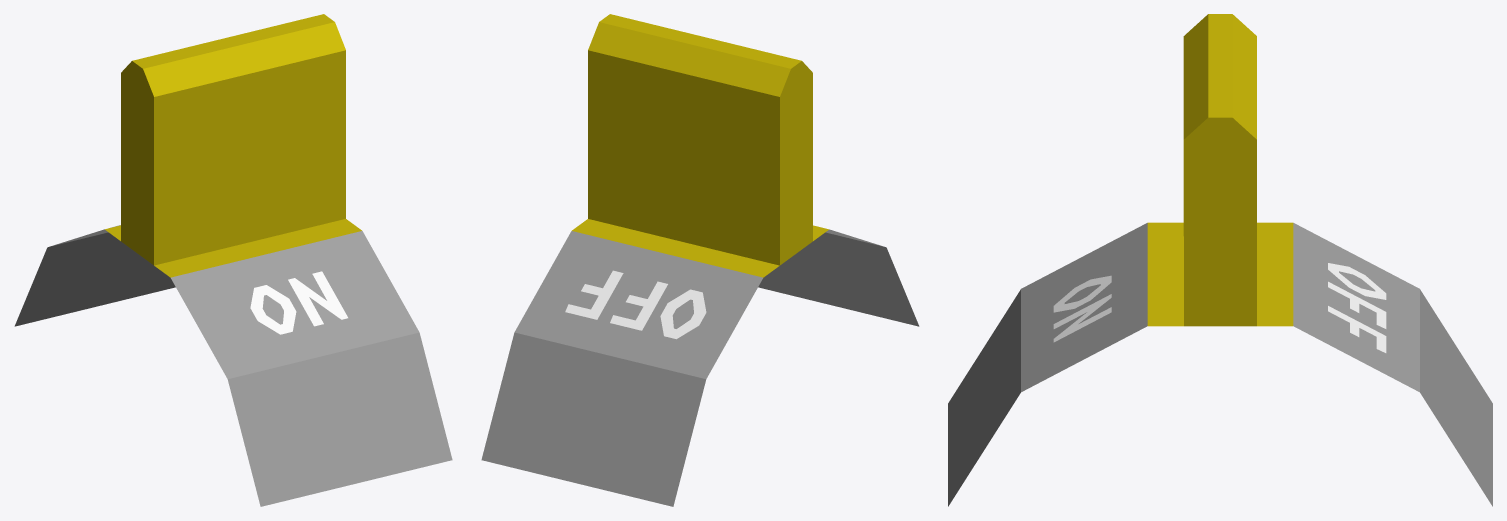
File: epe_circuit_breaker_switch.dae
3 views of the same model, side by side, from view 1: azimuth 30°, elevation 25°; view 2: azimuth 150°, elevation 25°; view 3: azimuth 270°, elevation 25° (orthographic). The views are drawn at different scales.
Visible parts, largest first — view 1: circuit_breaker_switch; view 2: circuit_breaker_switch; view 3: circuit_breaker_switch.
Boxes of the visible parts, left/top/right/bottom form: circuit_breaker_switch: left=14, top=14, right=452, bottom=506; circuit_breaker_switch: left=481, top=14, right=919, bottom=506; circuit_breaker_switch: left=948, top=14, right=1492, bottom=506.
Bounding box in the file's own units: 0.1 × 0.2222 × 0.1752.
